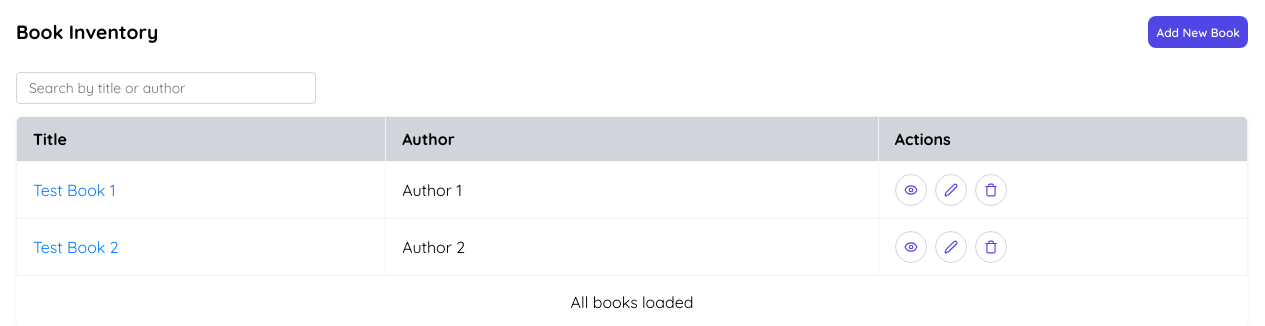
Test case: HomePage › should filter books based on search input
The width and height of the screenshot is (1265, 326).
Type "Book 1" into the field with placeholder "Search by title or author" at (166, 88), box top-left (16, 72), bottom-right (316, 104)
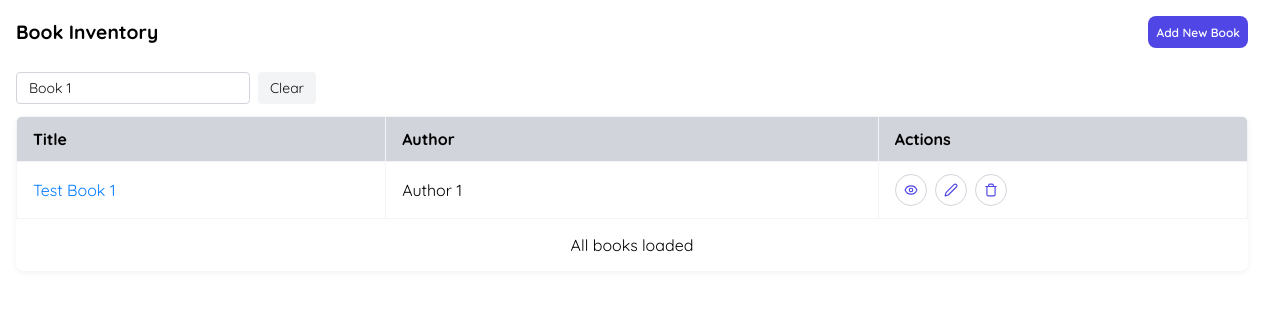
Expected: the text "Test Book 1" is shown, top-left (33, 180), bottom-right (116, 200)
Now the text "Test Book 2" is gone
Click the button "Clear" at (287, 88), box top-left (258, 72), bottom-right (316, 104)
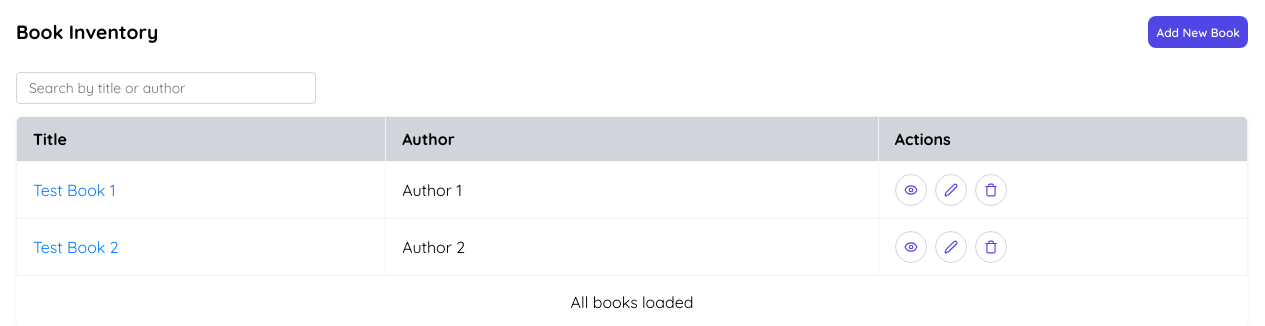
Expected: the text "Test Book 1" is shown, top-left (33, 180), bottom-right (116, 200)
Now the text "Test Book 2" is shown, box top-left (33, 237), bottom-right (119, 257)
